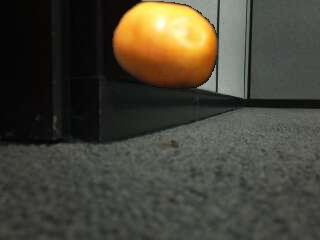Potato: (112, 1, 218, 89)
